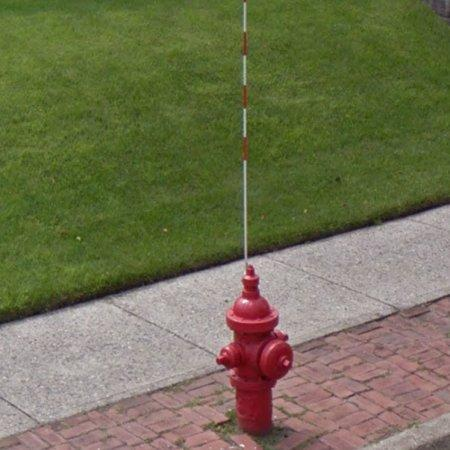a fire hydrant: (217, 265, 294, 436)
